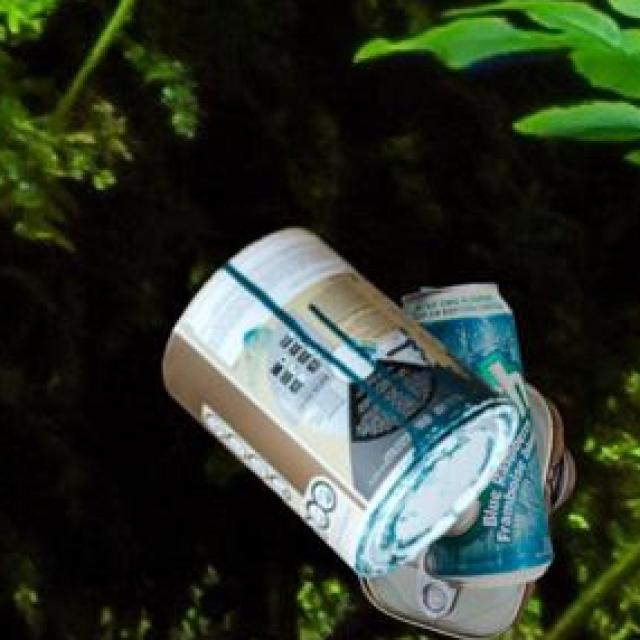logam: (160, 225, 514, 574), (355, 379, 572, 637), (399, 281, 549, 585)
